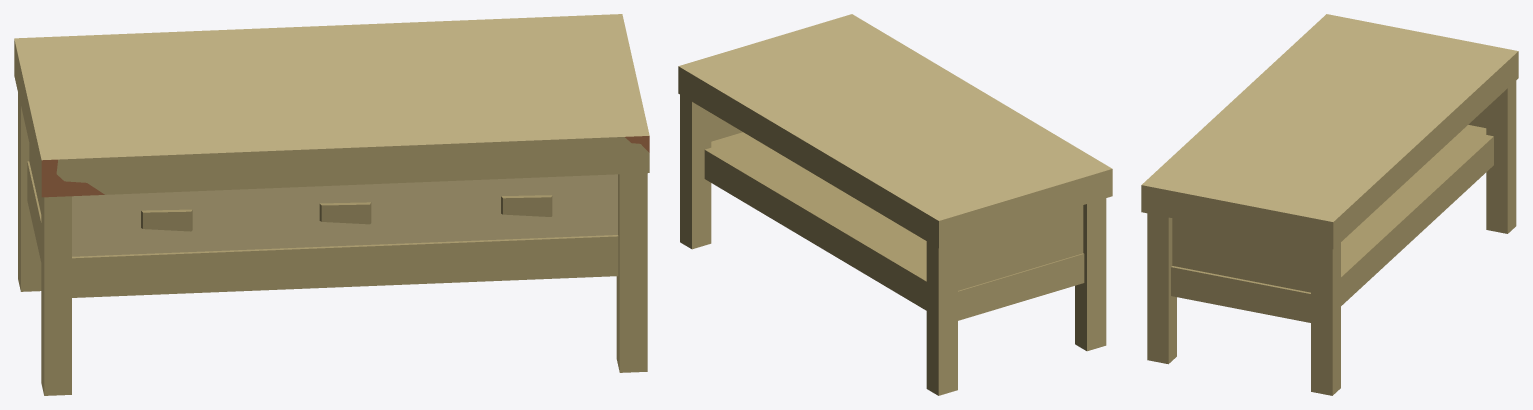
The model's file is MSH_QuestObject_cabinet_03.fbx.
3 renders of one model, left to right at view 1: azimuth 30°, elevation 25°; view 2: azimuth 150°, elevation 25°; view 3: azimuth 270°, elevation 25°, orthographic. The views are drawn at different scales.
Parts seen in each view (by area): view 1: MSH_QuestObject_cabinet_03; view 2: MSH_QuestObject_cabinet_03; view 3: MSH_QuestObject_cabinet_03.
Part boxes in pixels (x1,y1,x2,y2): MSH_QuestObject_cabinet_03: [14, 14, 649, 395]; MSH_QuestObject_cabinet_03: [678, 14, 1112, 395]; MSH_QuestObject_cabinet_03: [1141, 14, 1518, 395].
Bounding box in the file's own units: 3.76 × 1.47 × 2.88.
